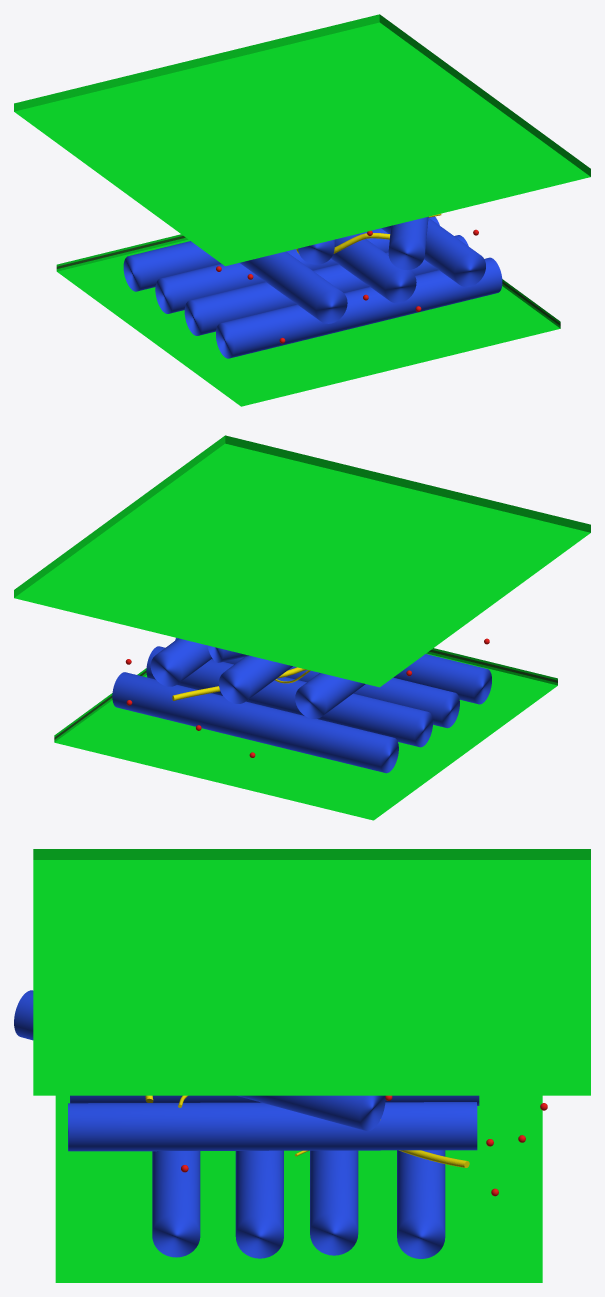
File: parede v3.glb
3 renders of one model, top to bottom at view 1: azimuth 30°, elevation 25°; view 2: azimuth 150°, elevation 25°; view 3: azimuth 270°, elevation 25°, orthographic. The views are drawn at different scales.
Parts seen in each view (by area): view 1: Plane.001, Plane, Cylinder.002, Cylinder, Cylinder.003, Cylinder.001, Cylinder.005, Cylinder.009, Cylinder.004, Cylinder.007, Cylinder.006; view 2: Plane.001, Plane, Cylinder.009, Cylinder.001, Cylinder, Cylinder.002, Cylinder.005, Cylinder.004, Cylinder.003; view 3: Plane.001, Plane, Cylinder.004, Cylinder, Cylinder.001, Cylinder.002, Cylinder.009, Cylinder.007, Cylinder.005.
Boxes of the visible parts, x1,y1,x2,y2 form: Plane.001: [14, 14, 590, 266]; Plane: [56, 234, 560, 406]; Cylinder.002: [216, 257, 502, 358]; Cylinder: [184, 235, 468, 335]; Cylinder.003: [239, 251, 347, 323]; Cylinder.001: [155, 216, 439, 313]; Cylinder.005: [331, 233, 416, 303]; Cylinder.009: [123, 241, 220, 291]; Cylinder.004: [381, 217, 485, 287]; Cylinder.007: [388, 216, 428, 270]; Cylinder.006: [298, 239, 335, 264]; Plane.001: [14, 435, 590, 687]; Plane: [54, 648, 557, 820]; Cylinder.009: [112, 672, 398, 773]; Cylinder.001: [146, 646, 432, 747]; Cylinder: [175, 638, 459, 728]; Cylinder.002: [393, 654, 491, 704]; Cylinder.005: [218, 656, 292, 703]; Cylinder.004: [150, 638, 212, 686]; Cylinder.003: [295, 673, 365, 718]; Plane.001: [33, 849, 590, 1095]; Plane: [55, 1095, 542, 1282]; Cylinder.004: [68, 1102, 477, 1151]; Cylinder: [235, 1150, 283, 1258]; Cylinder.001: [310, 1150, 358, 1255]; Cylinder.002: [152, 1151, 200, 1257]; Cylinder.009: [397, 1150, 445, 1258]; Cylinder.007: [14, 990, 385, 1131]; Cylinder.005: [70, 1095, 479, 1105].
Bounding box in the file's own units: 23.11 × 9.71 × 23.92.
